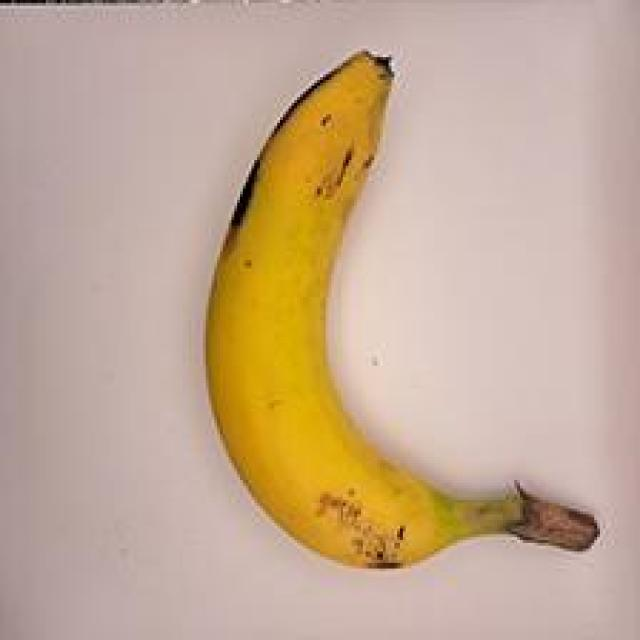ripe: (164, 26, 610, 588)
